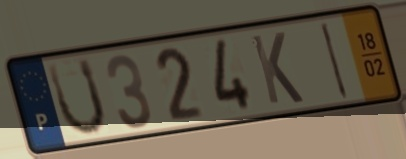2: (154, 45, 207, 124)
3: (104, 52, 153, 131)
4: (212, 35, 255, 115)
I: (318, 19, 352, 102)
K: (248, 30, 307, 107)
U: (44, 54, 109, 139)
